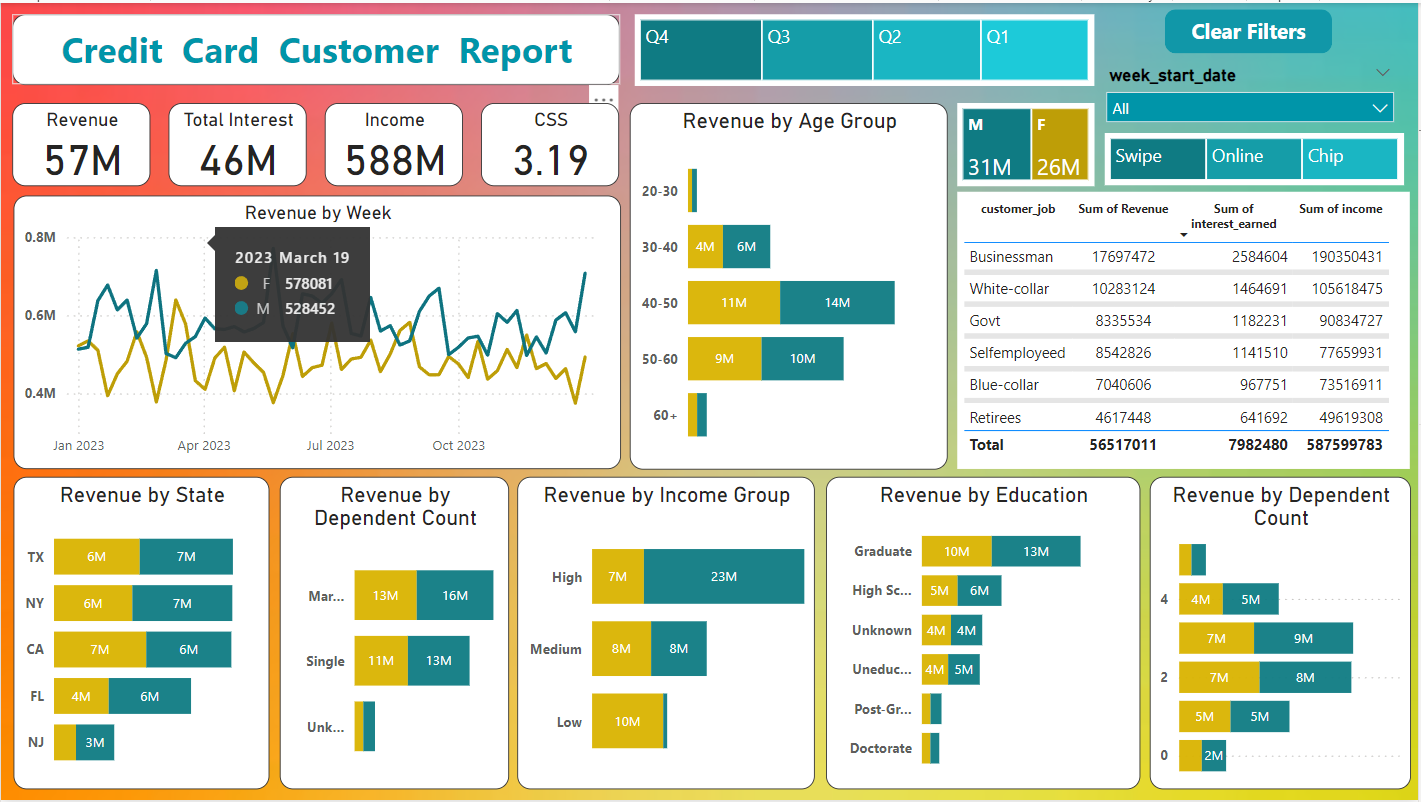

What the dashboard file says about the page in this screenshot:
{"tool":"powerbi","page":{"name":"CC Customer","canvas":[1280,720],"ordinal":2},"visuals":[{"type":"textbox","box":[10,10,548.8,63.8],"z":0},{"type":"barChart","title":"Revenue by Income Group","fields":{"Y":["Sum(public cc_detail.Revenue)"],"Category":["public cust_detail.IncomeGroup"],"Series":["public cust_detail.gender"]},"box":[466.2,427.5,268.8,282.5],"z":1000},{"type":"tableEx","fields":{"Values":["public cust_detail.customer_job","Sum(public cc_detail.Revenue)","Sum(public cc_detail.interest_earned)","Sum(public cust_detail.income)"]},"box":[863.8,171,408.8,250],"z":2000},{"type":"card","title":"Revenue","fields":{"Values":["Sum(public cc_detail.Revenue)"]},"box":[10,90,125,75],"z":3000},{"type":"card","title":"Total Interest","fields":{"Values":["Sum(public cc_detail.total_trans_amt)"]},"box":[151.2,90,125,75],"z":4000},{"type":"card","title":"Income","fields":{"Values":["Sum(public cust_detail.income)"]},"box":[292.5,90,125,75],"z":5000},{"type":"card","title":"CSS","fields":{"Values":["Avg(public cust_detail.cust_satisfaction_score)"]},"box":[433.8,90,125,75],"z":6000},{"type":"slicer","fields":{"Values":["public cc_detail.week_start_date"]},"box":[987.5,51.2,280,76.2],"z":7000},{"type":"treemap","fields":{"Group":["public cc_detail.qtr"],"Values":["Avg(public cc_detail.client_num)"]},"box":[572.5,10,415,65],"z":8000},{"type":"actionButton","box":[1051.2,6,151.2,40],"z":9000},{"type":"lineChart","title":"Revenue by Week","fields":{"Y":["Sum(public cc_detail.Revenue)"],"Series":["public cust_detail.gender"],"Category":["public cc_detail.week_start_date.Variation.Date Hierarchy.Year","public cc_detail.week_start_date.Variation.Date Hierarchy.Month","public cc_detail.week_start_date.Variation.Date Hierarchy.Day"]},"box":[11.2,173.8,548.8,247.5],"z":10000},{"type":"treemap","fields":{"Group":["public cust_detail.gender"],"Values":["Sum(public cc_detail.Revenue)"]},"box":[863.8,90,123.8,75],"z":11000},{"type":"barChart","title":"Revenue by Age Group","fields":{"Y":["Sum(public cc_detail.Revenue)"],"Category":["public cust_detail.AgeGroup"],"Series":["public cust_detail.gender"]},"box":[567.5,90,287.5,331.2],"z":12000},{"type":"barChart","title":"Revenue by Dependent Count","fields":{"Y":["Sum(public cc_detail.Revenue)"],"Category":["public cust_detail.dependent_count"],"Series":["public cust_detail.gender"]},"box":[1037.5,427.5,236.2,282.5],"z":13000},{"type":"barChart","title":"Revenue by Education","fields":{"Y":["Sum(public cc_detail.Revenue)"],"Category":["public cust_detail.education_level"],"Series":["public cust_detail.gender"]},"box":[745,427.5,283.8,282.5],"z":14000},{"type":"barChart","title":"Revenue by State","fields":{"Y":["Sum(public cc_detail.Revenue)"],"Category":["public cust_detail.state_cd"],"Series":["public cust_detail.gender"]},"box":[11.2,427.5,231.2,282.5],"z":15000},{"type":"barChart","title":"Revenue by Dependent Count","fields":{"Y":["Sum(public cc_detail.Revenue)"],"Category":["public cust_detail.marital_status"],"Series":["public cust_detail.gender"]},"box":[251.2,427.5,207.5,282.5],"z":16000},{"type":"treemap","fields":{"Group":["public cc_detail.use_chip"],"Values":["Avg(public cc_detail.client_num)"]},"box":[997.5,117.5,270,47.5],"z":17000}]}

Visuals, with their boxes in screenshot pixels (x1, y1, x2, y2), scaled from the page's 1280x720 canvas onto the 1421x802 screenshot:
textbox: (left=11, top=11, right=620, bottom=82)
"Revenue by Income Group" barChart: (left=518, top=476, right=816, bottom=791)
tableEx - public cust_detail.customer_job x Sum(public cc_detail.Revenue): (left=959, top=190, right=1413, bottom=469)
"Revenue" card: (left=11, top=100, right=150, bottom=184)
"Total Interest" card: (left=168, top=100, right=307, bottom=184)
"Income" card: (left=325, top=100, right=463, bottom=184)
"CSS" card: (left=482, top=100, right=620, bottom=184)
slicer - public cc_detail.week_start_date: (left=1096, top=57, right=1407, bottom=142)
treemap - public cc_detail.qtr x Avg(public cc_detail.client_num): (left=636, top=11, right=1096, bottom=84)
actionButton: (left=1167, top=7, right=1335, bottom=51)
"Revenue by Week" lineChart: (left=12, top=194, right=622, bottom=469)
treemap - public cust_detail.gender x Sum(public cc_detail.Revenue): (left=959, top=100, right=1096, bottom=184)
"Revenue by Age Group" barChart: (left=630, top=100, right=949, bottom=469)
"Revenue by Dependent Count" barChart: (left=1152, top=476, right=1414, bottom=791)
"Revenue by Education" barChart: (left=827, top=476, right=1142, bottom=791)
"Revenue by State" barChart: (left=12, top=476, right=269, bottom=791)
"Revenue by Dependent Count" barChart: (left=279, top=476, right=509, bottom=791)
treemap - public cc_detail.use_chip x Avg(public cc_detail.client_num): (left=1107, top=131, right=1407, bottom=184)
